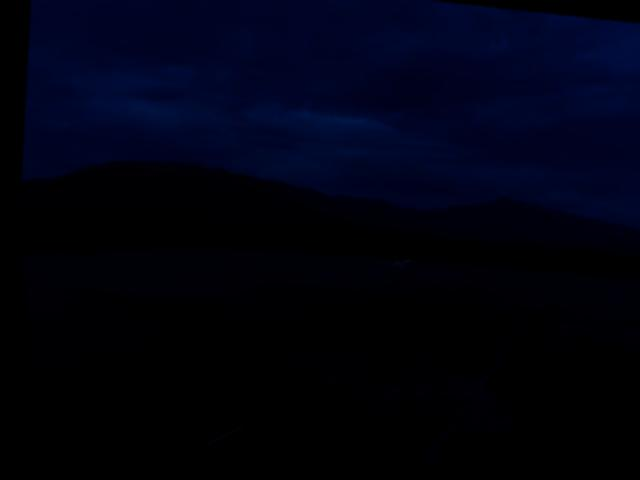plane: (387, 256, 408, 275)
